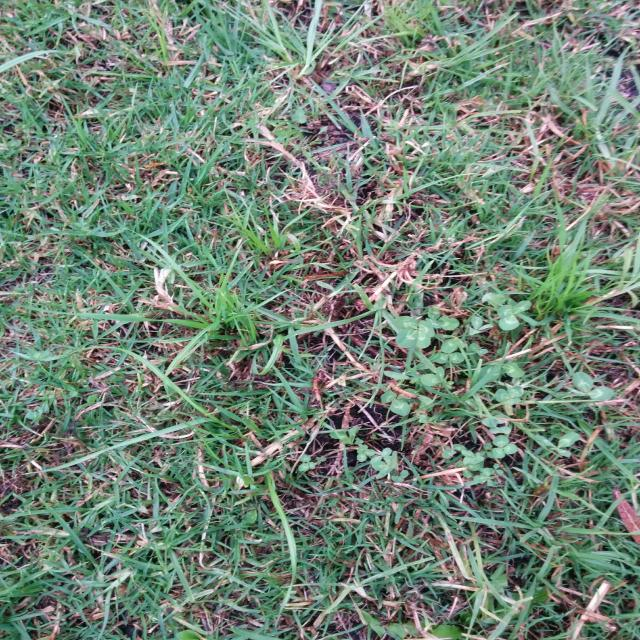Four Leaf Clover: (392, 316, 435, 348)
